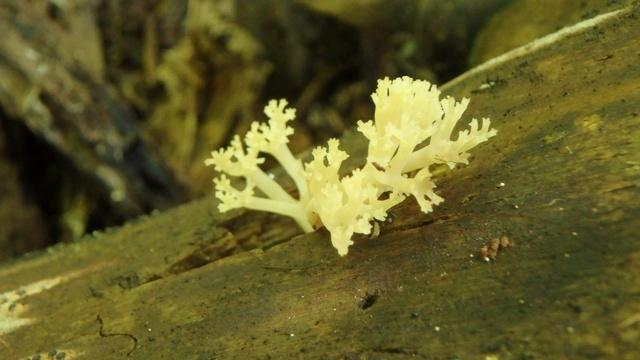Edible Mushroom: (203, 73, 498, 256)
